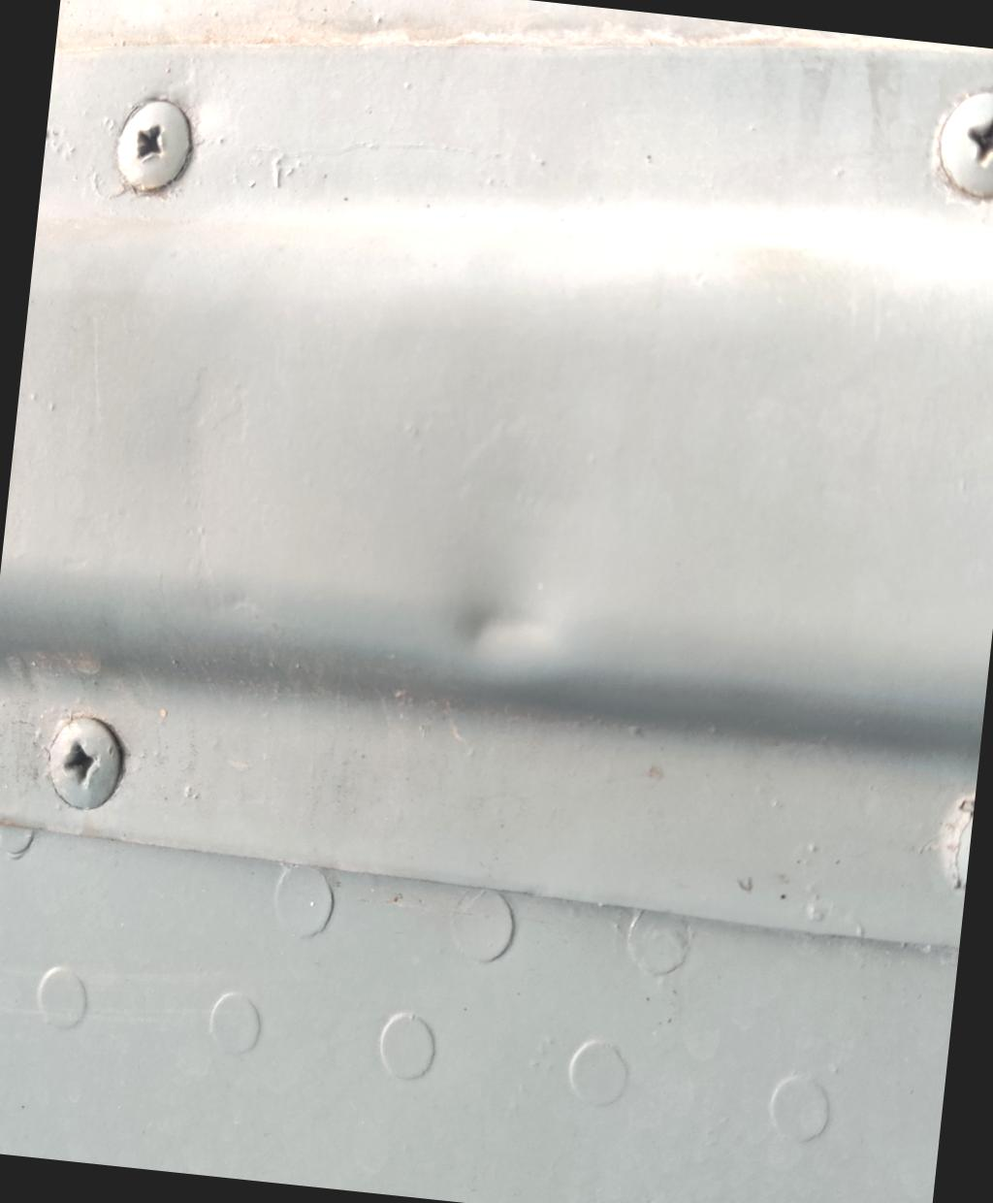dent: (415, 538, 579, 721)
